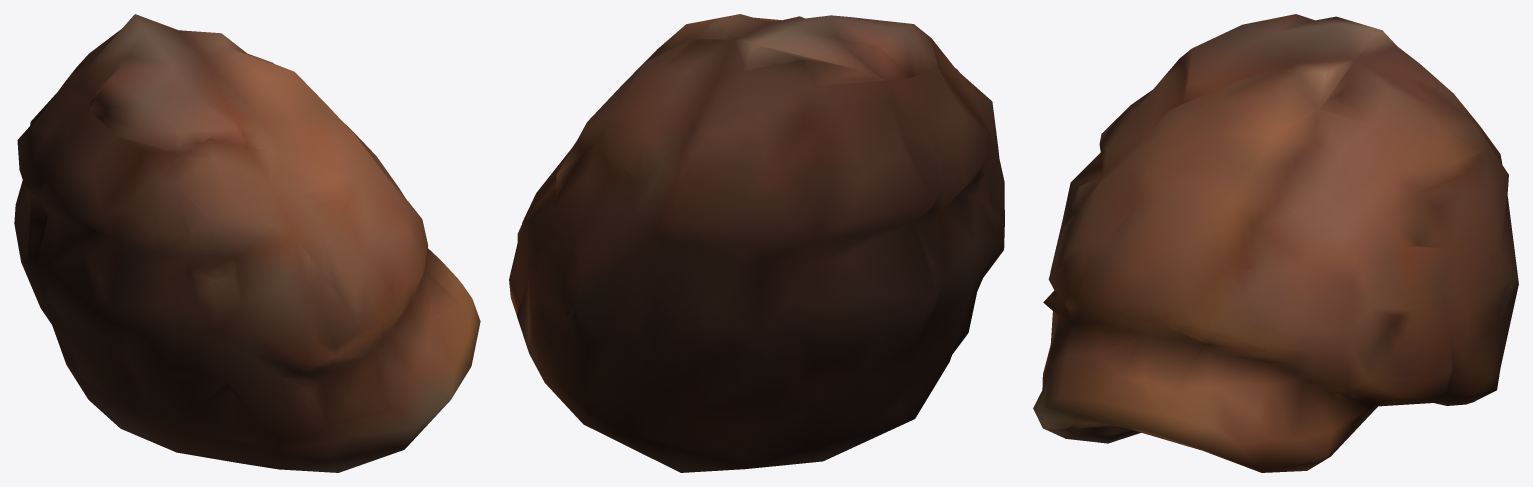
The model's file is cap_leather.glb.
3 views of the same model, side by side, from view 1: azimuth 30°, elevation 25°; view 2: azimuth 150°, elevation 25°; view 3: azimuth 270°, elevation 25° (orthographic). The views are drawn at different scales.
Parts seen in each view (by area): view 1: model; view 2: model; view 3: model.
Boxes of the visible parts, x1,y1,x2,y2 form: model: (14,14,480,472); model: (509,14,1004,472); model: (1033,14,1518,472).
Size of the model in its own units: 0.3767 by 0.3426 by 0.3985.
1 material, 1 textured.
